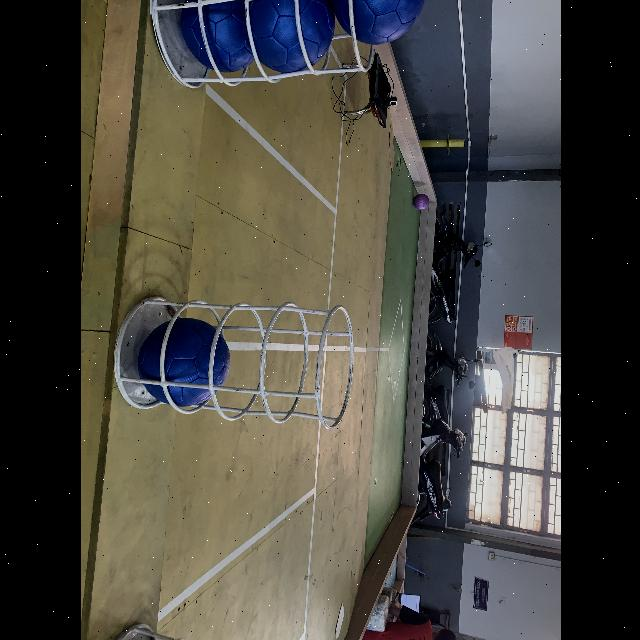B: (136, 318, 232, 408), (252, 1, 332, 72), (178, 0, 252, 72), (335, 0, 425, 44)
